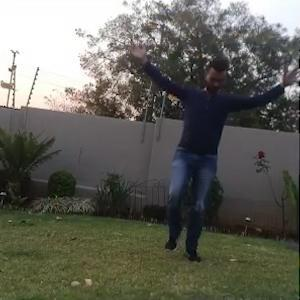takeoff: (132, 41, 299, 255)
